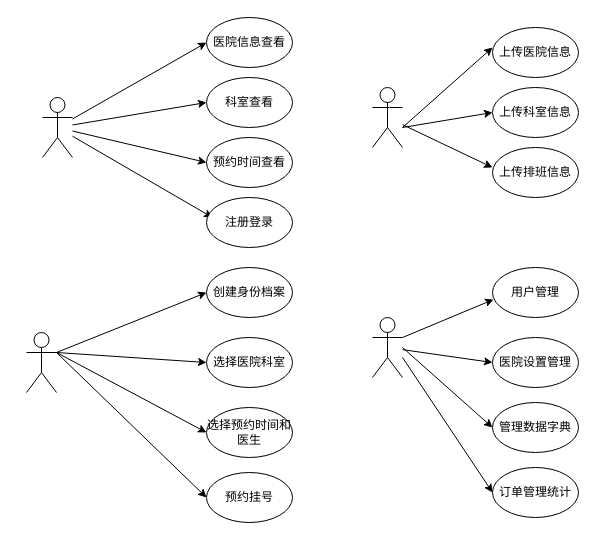
Some shapes in this 596 by 540 pixel diagram are drawn without their labels. The centre of each missing label's shape, as x and y in pixels:
"医院管理员" belongs at [387,117].
"平台管理员" belongs at [387,347].
"未注册用户" belongs at [57,127].
"注册用户" belongs at [41,362].
